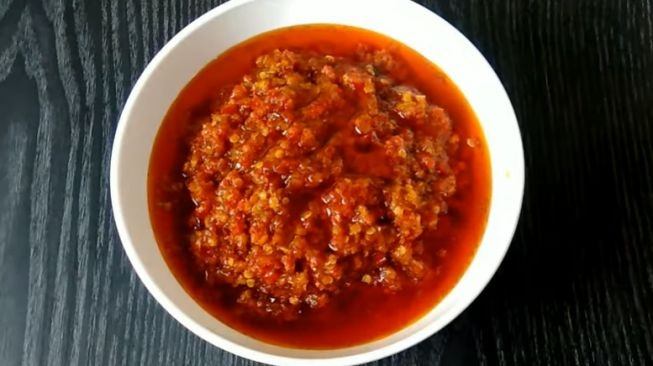sambal: (179, 44, 458, 310)
